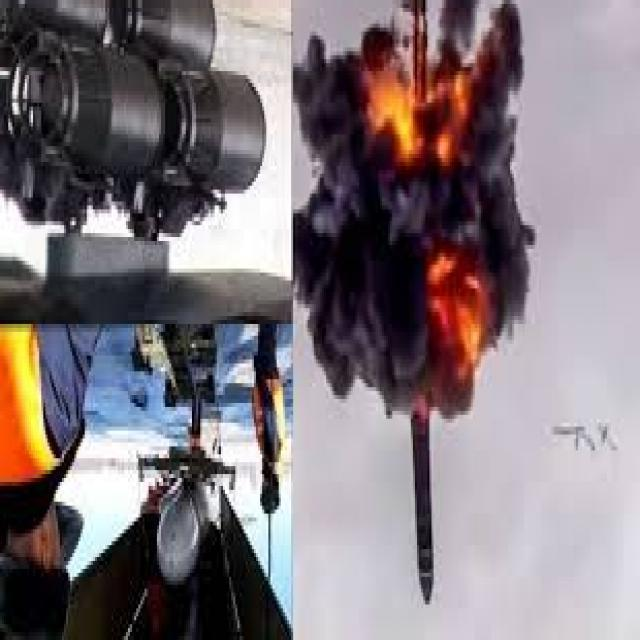missile: (402, 397, 438, 604)
